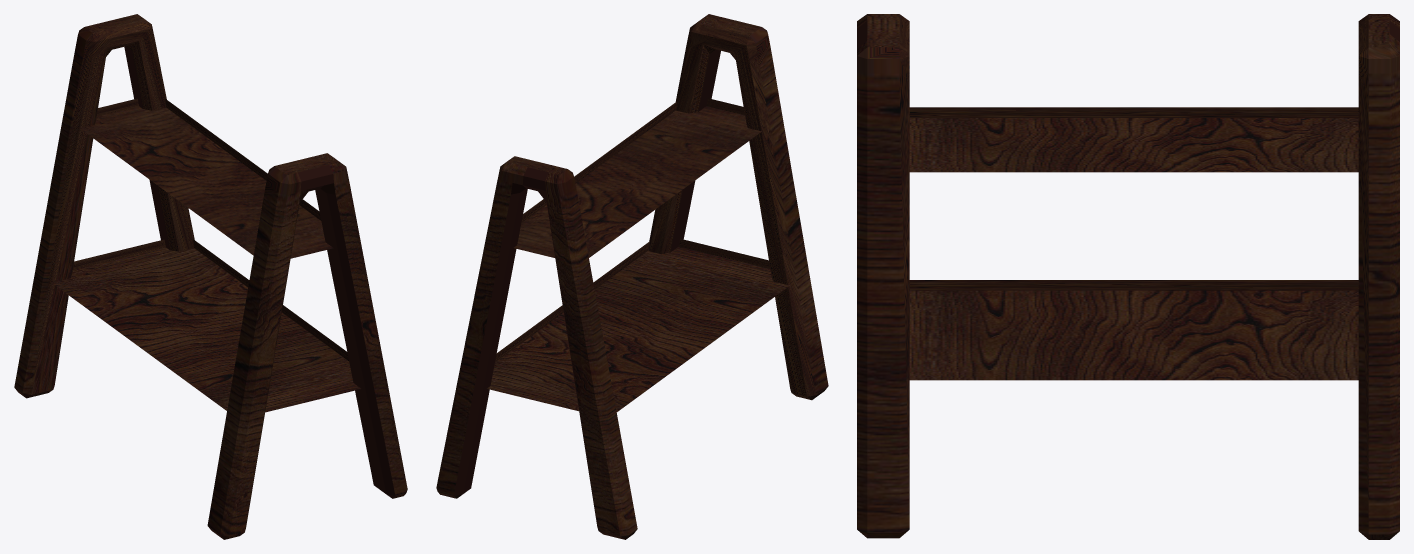
Rendered from shelf1 1.glb.
The picture shows the model from 3 angles, left to right: view 1: azimuth 30°, elevation 25°; view 2: azimuth 150°, elevation 25°; view 3: azimuth 270°, elevation 25°; orthographic projection. The views are drawn at different scales.
Visible parts, largest first — view 1: MAINSHELF; view 2: MAINSHELF; view 3: MAINSHELF.
Part boxes in pixels (bbox=[...]): MAINSHELF: bbox=[14, 14, 407, 539]; MAINSHELF: bbox=[436, 14, 828, 539]; MAINSHELF: bbox=[857, 14, 1399, 539].
Bounding box in the file's own units: 0.741 × 1.28 × 1.4.
Materials: 1 (1 with a texture image).
